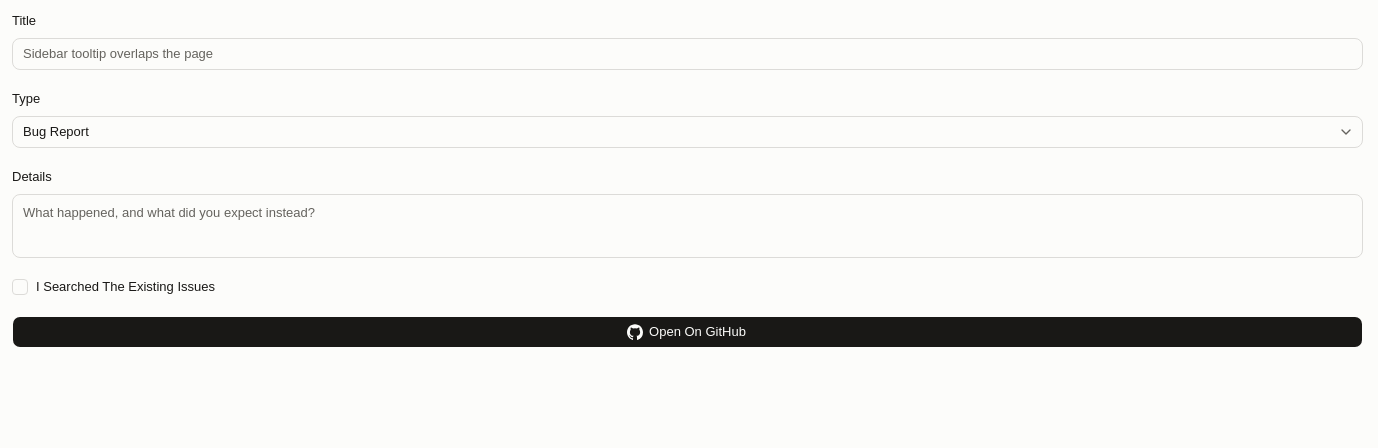
Test: IssueForm › shows what is missing and opens nothing
What coordinates should you click on to do the following:
click the button "Open On GitHub"
I would click on:
 (688, 332)
Its box is [12,316,1363,348].
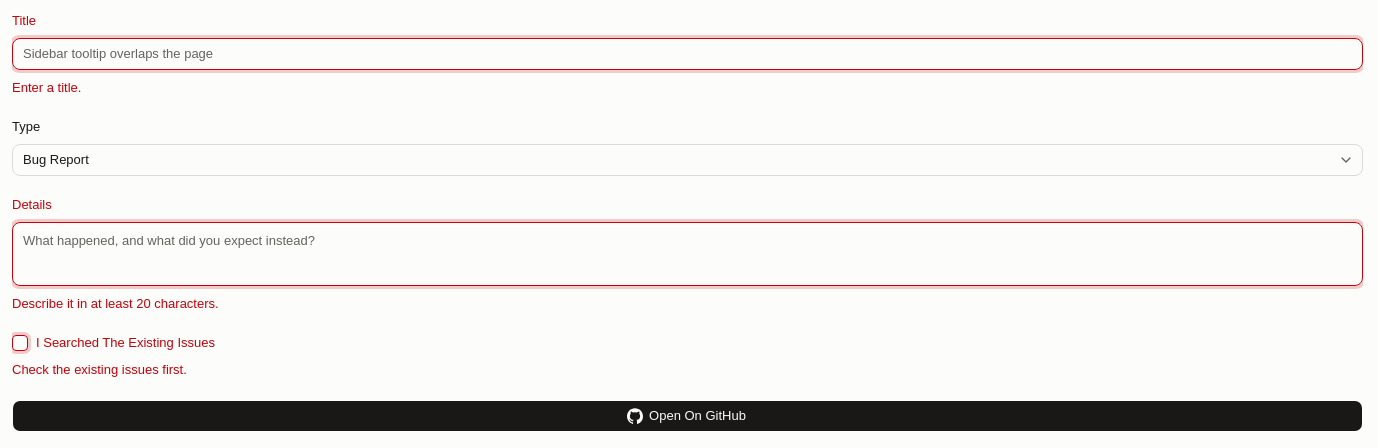
Expected: the text "Enter a title." is shown, [12,80,81,95]
Expected: the text "Describe it in at least 20 characters." is shown, [12,296,219,311]
Expected: the text "Check the existing issues first." is shown, [12,362,187,376]
